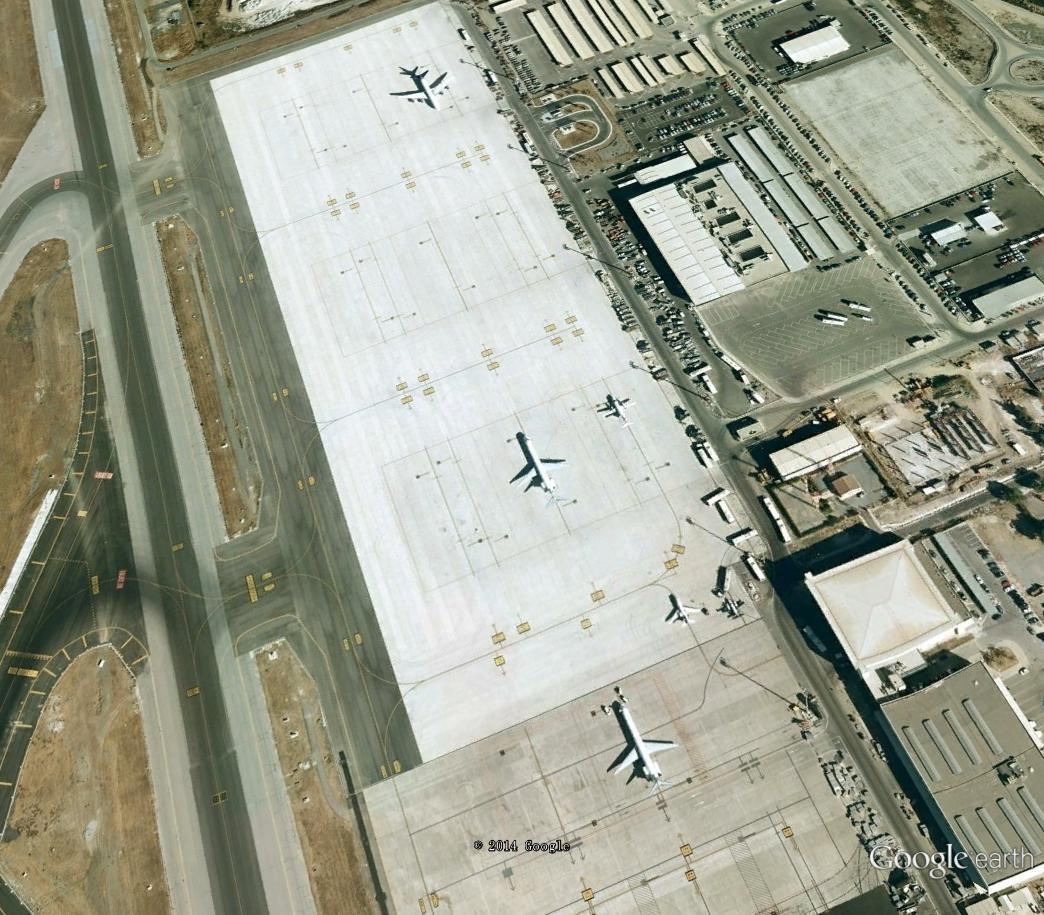aircraft: (606, 696, 681, 801), (510, 429, 571, 502), (388, 63, 459, 115), (661, 591, 706, 636), (597, 393, 645, 435)
